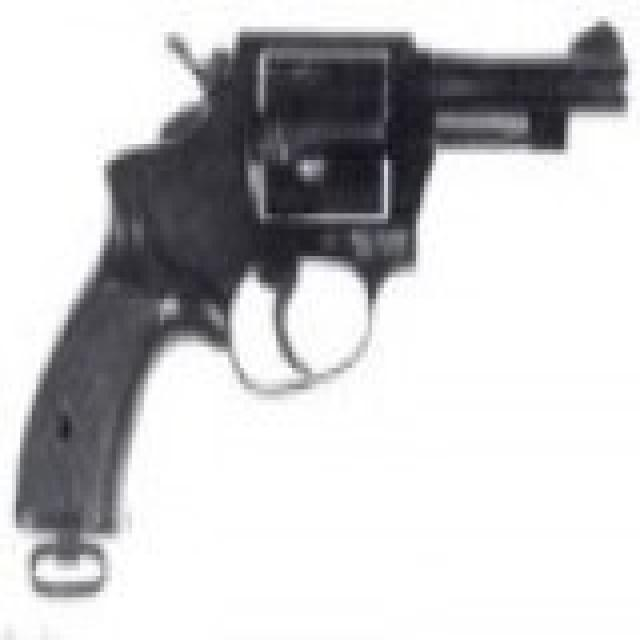Gun: (23, 10, 635, 596)
